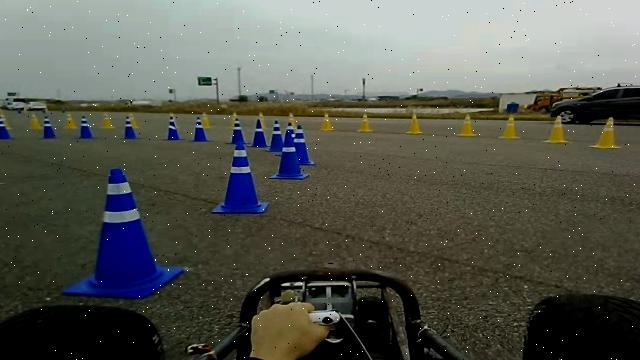blue cone: (62, 167, 184, 299), (211, 141, 269, 214), (268, 145, 310, 180), (292, 124, 314, 166), (265, 120, 284, 152), (225, 118, 248, 144), (190, 116, 212, 142), (249, 118, 268, 148), (163, 114, 183, 140), (120, 116, 140, 140), (39, 115, 57, 139), (77, 115, 95, 138), (0, 114, 13, 139)
yellow cone: (589, 116, 621, 149), (542, 114, 570, 144), (497, 114, 520, 139), (456, 114, 477, 136), (405, 112, 422, 134), (356, 113, 373, 132), (319, 112, 334, 131), (63, 113, 77, 129), (100, 113, 114, 129), (256, 111, 268, 129), (228, 111, 240, 129), (29, 113, 42, 129), (199, 111, 210, 129), (286, 111, 297, 128)
